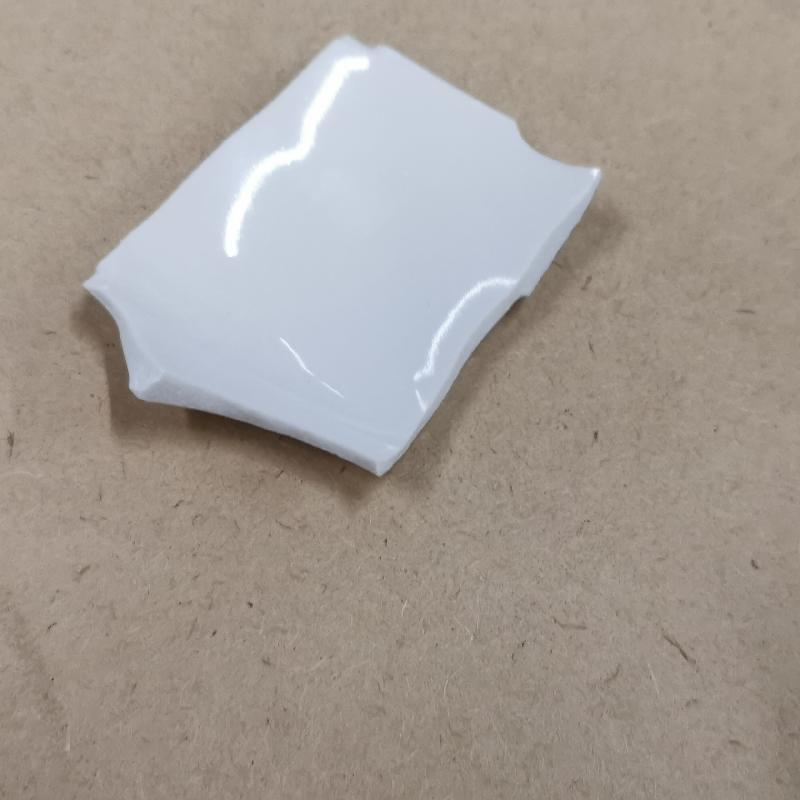ceram: (74, 29, 604, 494)
